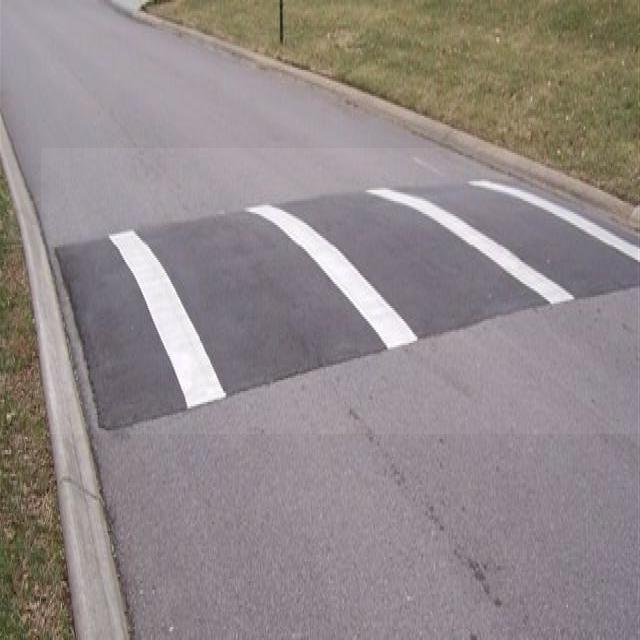speed-bump: (41, 148, 640, 434)
